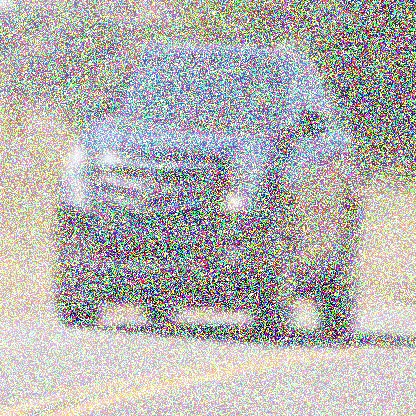Vehicle: (56, 11, 362, 347)
